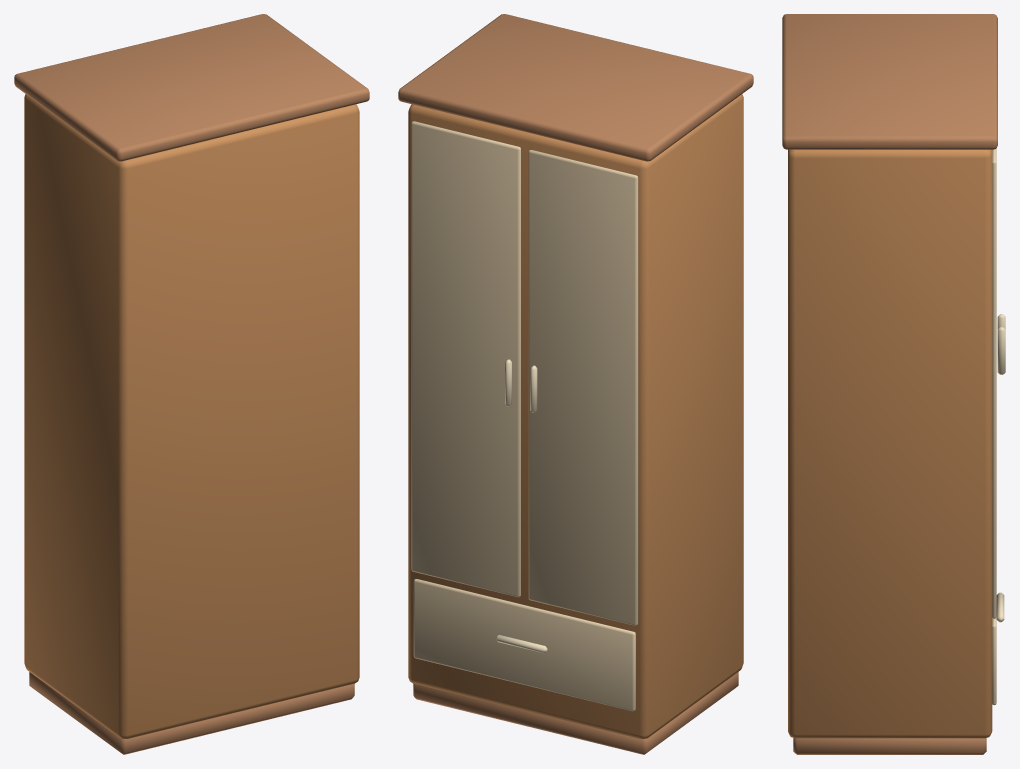
The model's file is junior_wardrobe.glb.
3 renders of one model, left to right at view 1: azimuth 30°, elevation 25°; view 2: azimuth 150°, elevation 25°; view 3: azimuth 270°, elevation 25°, orthographic.
Parts seen in each view (by area): view 1: junior_wardrobe__Wood, junior_wardrobe__WoodWarm; view 2: junior_wardrobe__WoodLight, junior_wardrobe__Wood, junior_wardrobe__WoodWarm, junior_wardrobe__Cream; view 3: junior_wardrobe__Wood, junior_wardrobe__WoodWarm, junior_wardrobe__WoodLight, junior_wardrobe__Cream.
Boxes of the visible parts, x1=… form: junior_wardrobe__Wood: x1=24, y1=94, x2=359, y2=738; junior_wardrobe__WoodWarm: x1=14, y1=14, x2=369, y2=754; junior_wardrobe__WoodLight: x1=411, y1=121, x2=638, y2=711; junior_wardrobe__Wood: x1=408, y1=94, x2=743, y2=738; junior_wardrobe__WoodWarm: x1=398, y1=14, x2=753, y2=754; junior_wardrobe__Cream: x1=496, y1=359, x2=547, y2=653; junior_wardrobe__Wood: x1=788, y1=149, x2=992, y2=738; junior_wardrobe__WoodWarm: x1=782, y1=14, x2=997, y2=754; junior_wardrobe__WoodLight: x1=992, y1=148, x2=996, y2=705; junior_wardrobe__Cream: x1=996, y1=314, x2=1005, y2=622.
Bounding box in the file's own units: 0.8 × 1.85 × 0.601.
